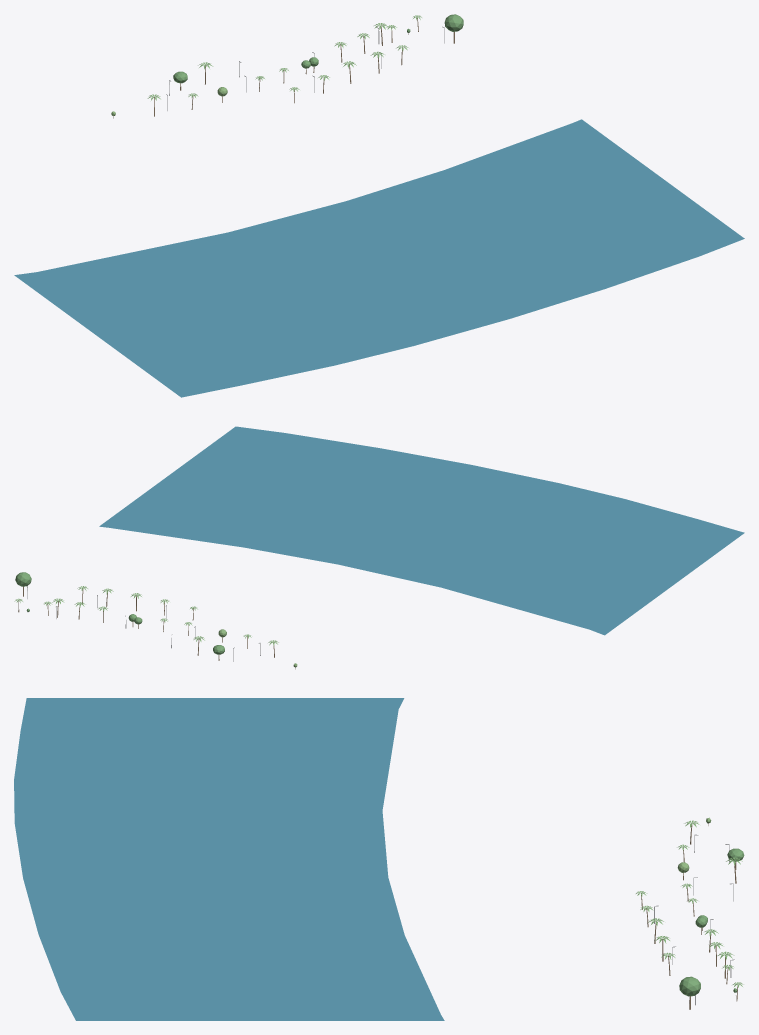
Rendered from nature_0_7.glb.
3 views of the same model, one above another, from view 1: azimuth 30°, elevation 25°; view 2: azimuth 150°, elevation 25°; view 3: azimuth 270°, elevation 25° (orthographic). The views are drawn at different scales.
Visible parts, largest first — view 1: water; view 2: water, palm_leaf, foliage_a; view 3: water, palm_leaf, foliage_a.
Part boxes in pixels (x1=…): water: x1=14, y1=119, x2=744, y2=397; water: x1=99, y1=426, x2=744, y2=635; palm_leaf: x1=14, y1=586, x2=278, y2=645; foliage_a: x1=15, y1=572, x2=224, y2=654; water: x1=14, y1=698, x2=444, y2=1020; palm_leaf: x1=636, y1=820, x2=743, y2=987; foliage_a: x1=679, y1=848, x2=744, y2=996.
Size of the model in its own units: 250 by 11.84 by 239.
